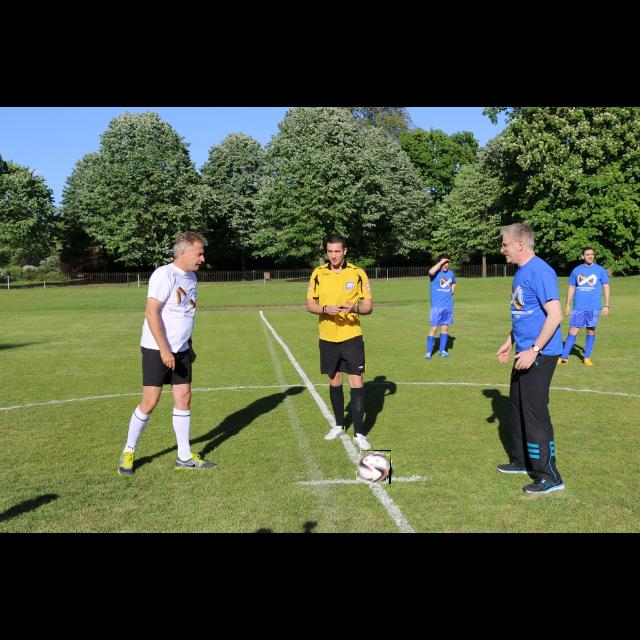Football: (357, 450, 391, 484)
